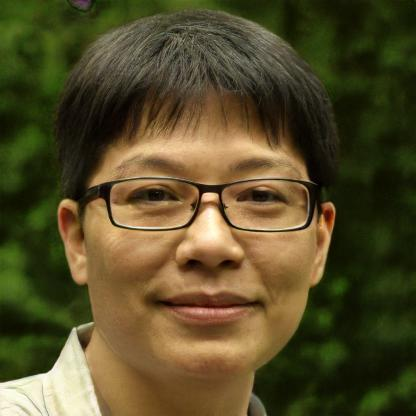glasses: (93, 170, 319, 238)
